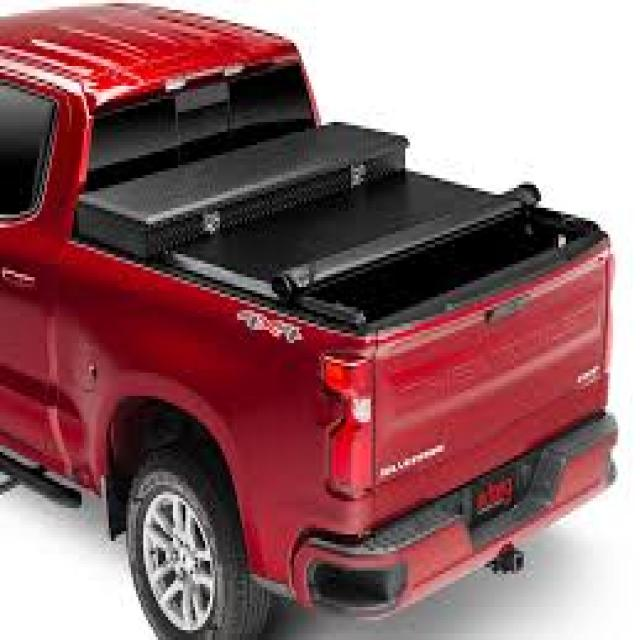car: (0, 7, 615, 640)
